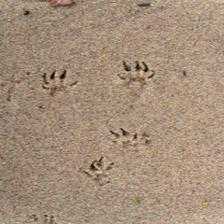squirrel: (116, 57, 159, 101), (37, 68, 81, 102)
